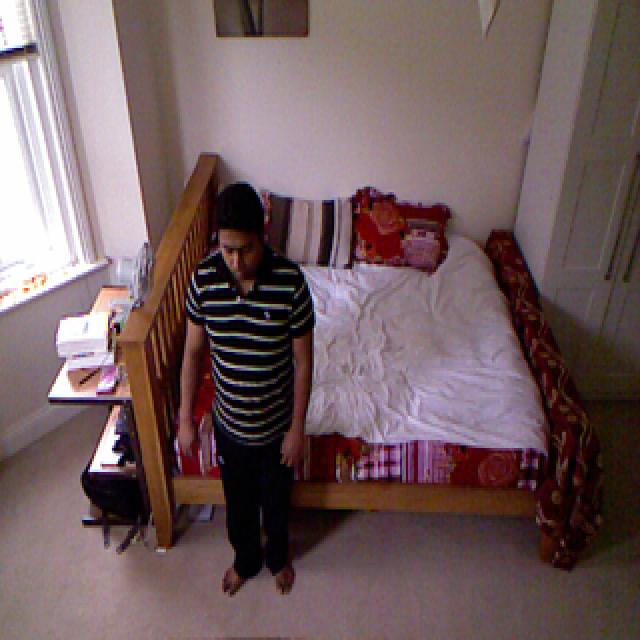standing: (182, 176, 319, 599)
